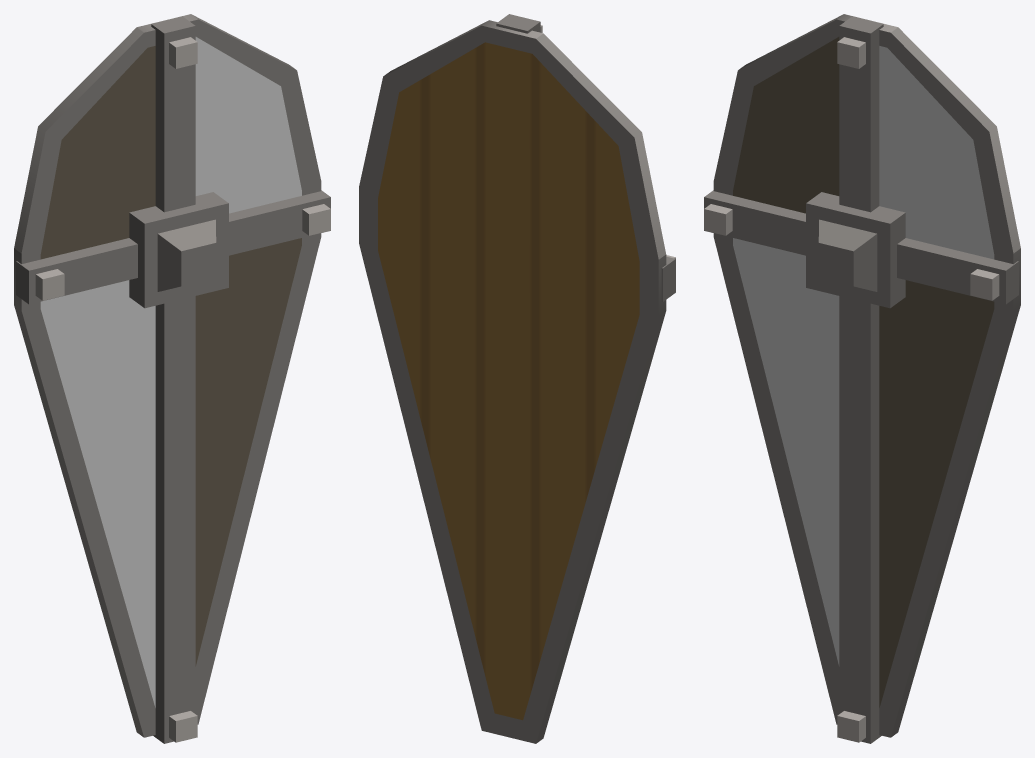
The model's file is SF_Wep_KiteShield_Pattern_010.fbx.
3 renders of one model, left to right at view 1: azimuth 30°, elevation 25°; view 2: azimuth 150°, elevation 25°; view 3: azimuth 330°, elevation 25°, orthographic.
Visible parts, largest first — view 1: SF_Wep_KiteShield_Pattern_010; view 2: SF_Wep_KiteShield_Pattern_010; view 3: SF_Wep_KiteShield_Pattern_010.
Part boxes in pixels (x1,y1,x2,y2): SF_Wep_KiteShield_Pattern_010: (14,14,330,743); SF_Wep_KiteShield_Pattern_010: (359,14,675,743); SF_Wep_KiteShield_Pattern_010: (704,14,1020,743).
Bounding box in the file's own units: 0.9946 × 2.24 × 0.1992.
